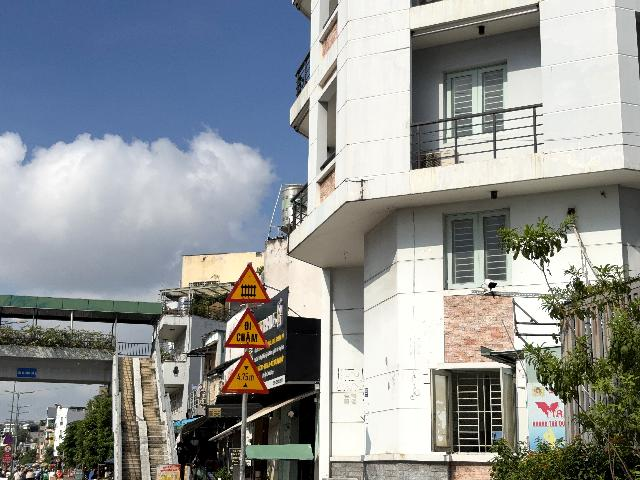chieu-cao-tinh-khong-thuc-te: (221, 350, 269, 394)
di-cham: (224, 307, 270, 348)
noi-giao-nhau-voi-duong-sat-co-rao-chan: (225, 263, 271, 303)
